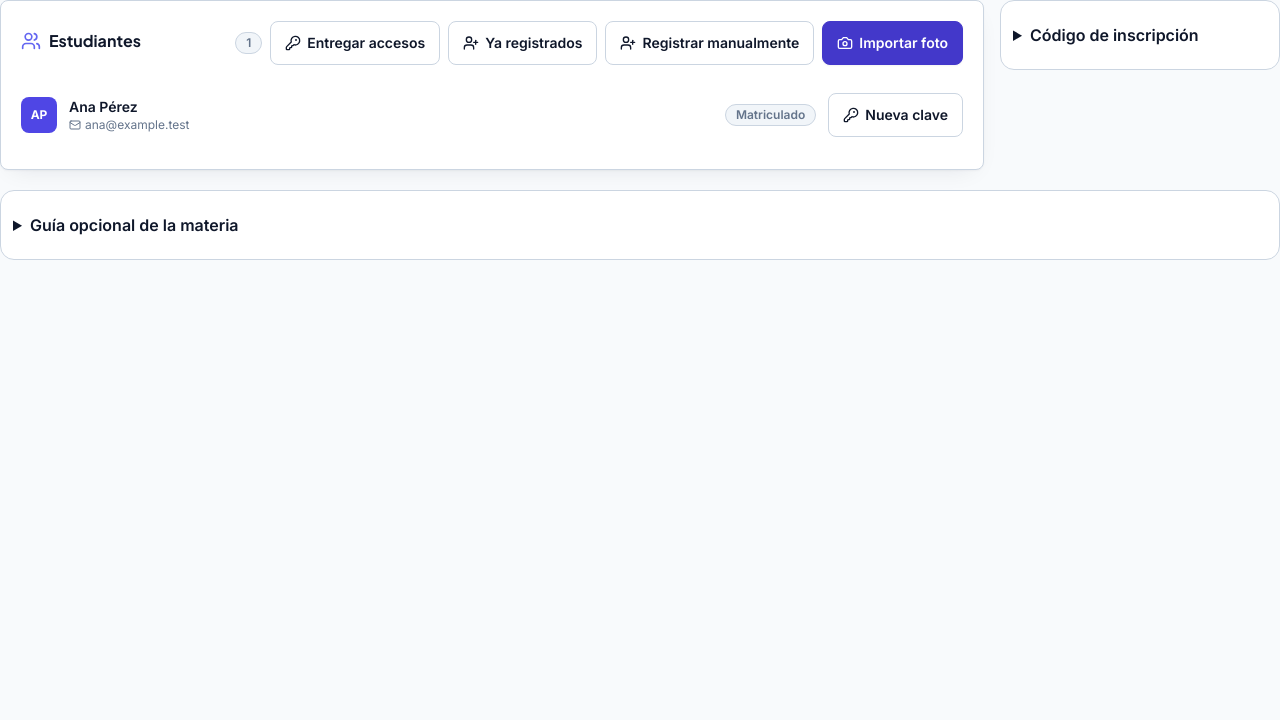
it: MateriaVistaGeneral teacher journey › requires explicit confirmation to renew an account and cancel does not change a key
The width and height of the screenshot is (1280, 720).
Click the button "Nueva clave": (896, 115) [828, 93, 963, 137]
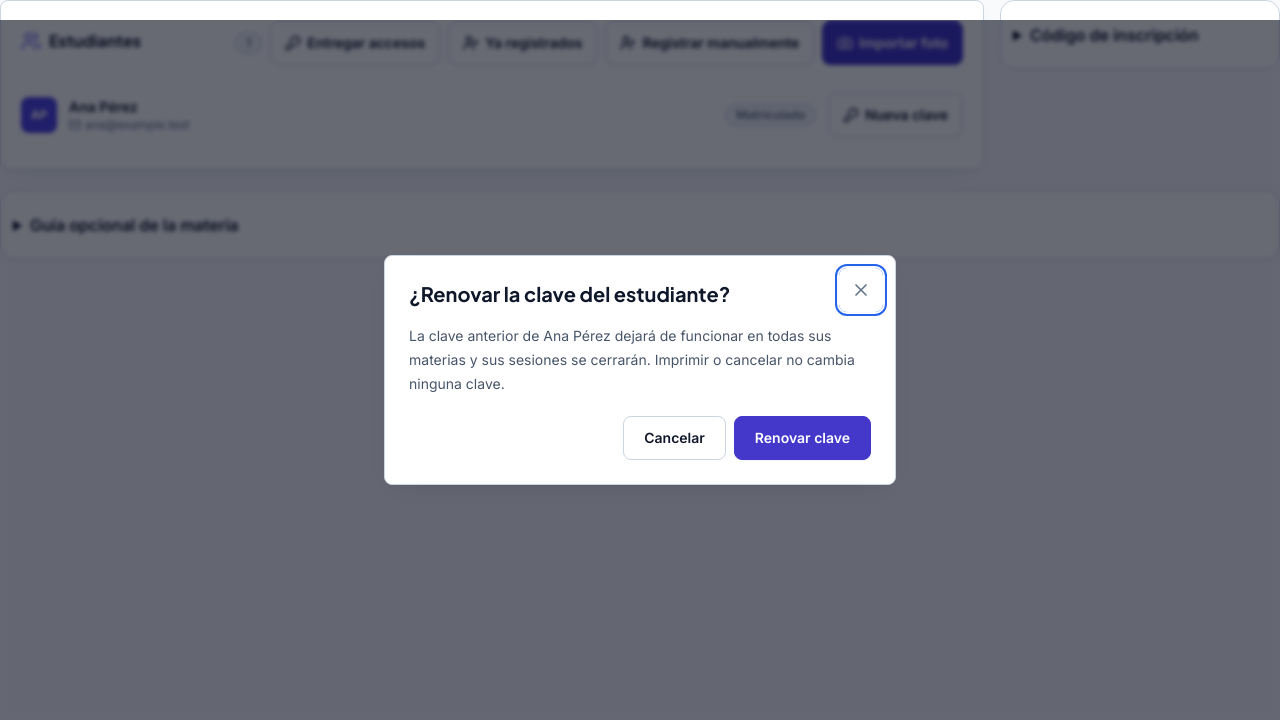
Now the text "todas sus materias" is shown, box [409, 327, 855, 392]
Click the button "Cancelar": (674, 438) [623, 416, 726, 460]
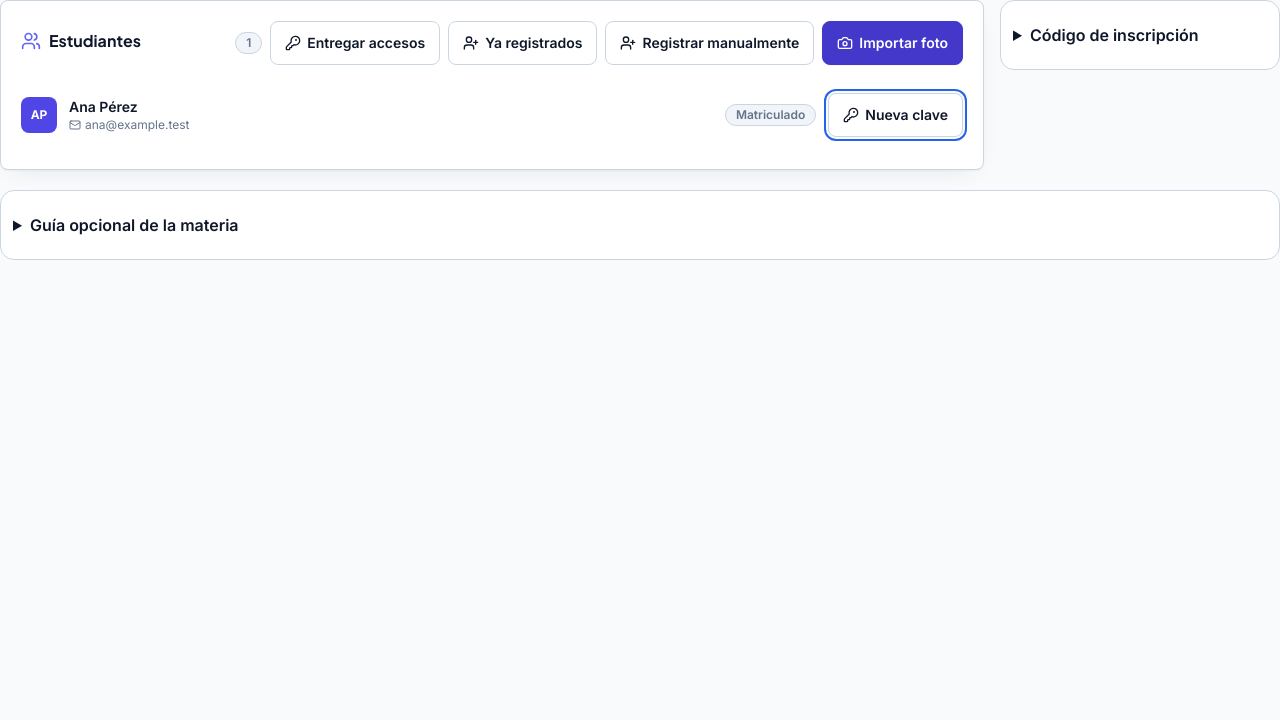
Click the button "Nueva clave": (896, 115) [828, 93, 963, 137]
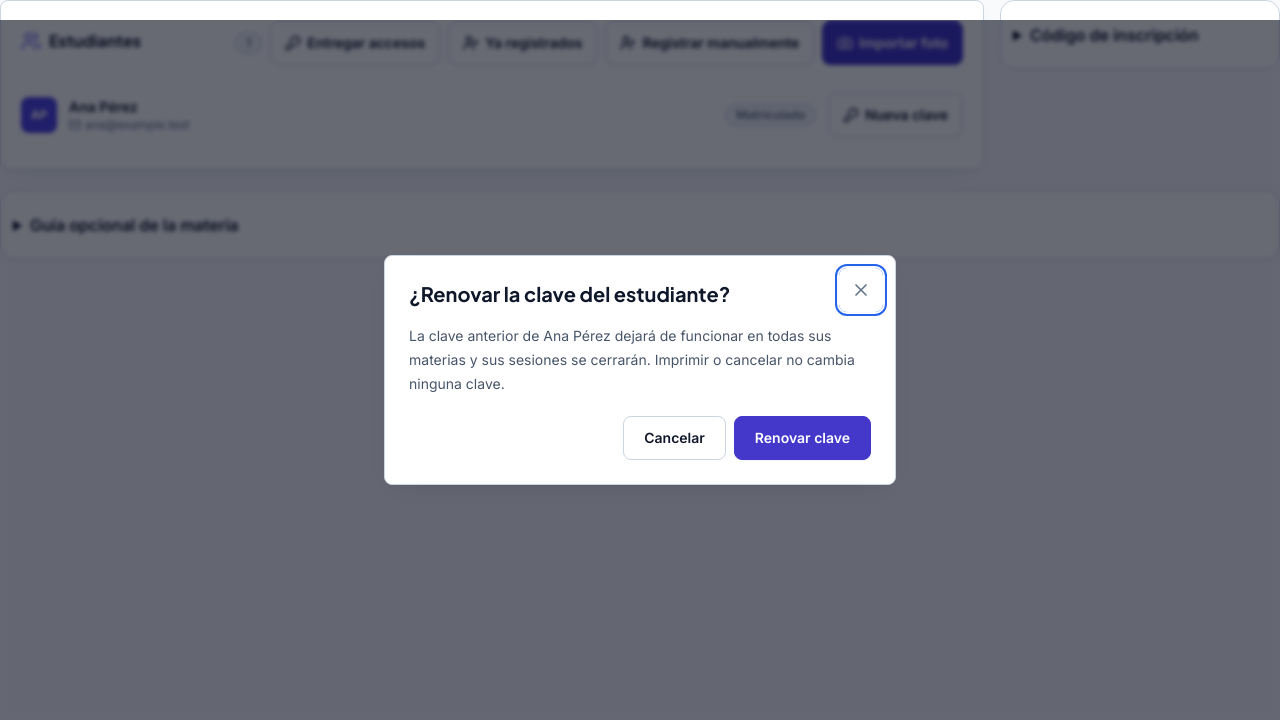
Click the button "Renovar clave": (802, 438) [734, 416, 871, 460]
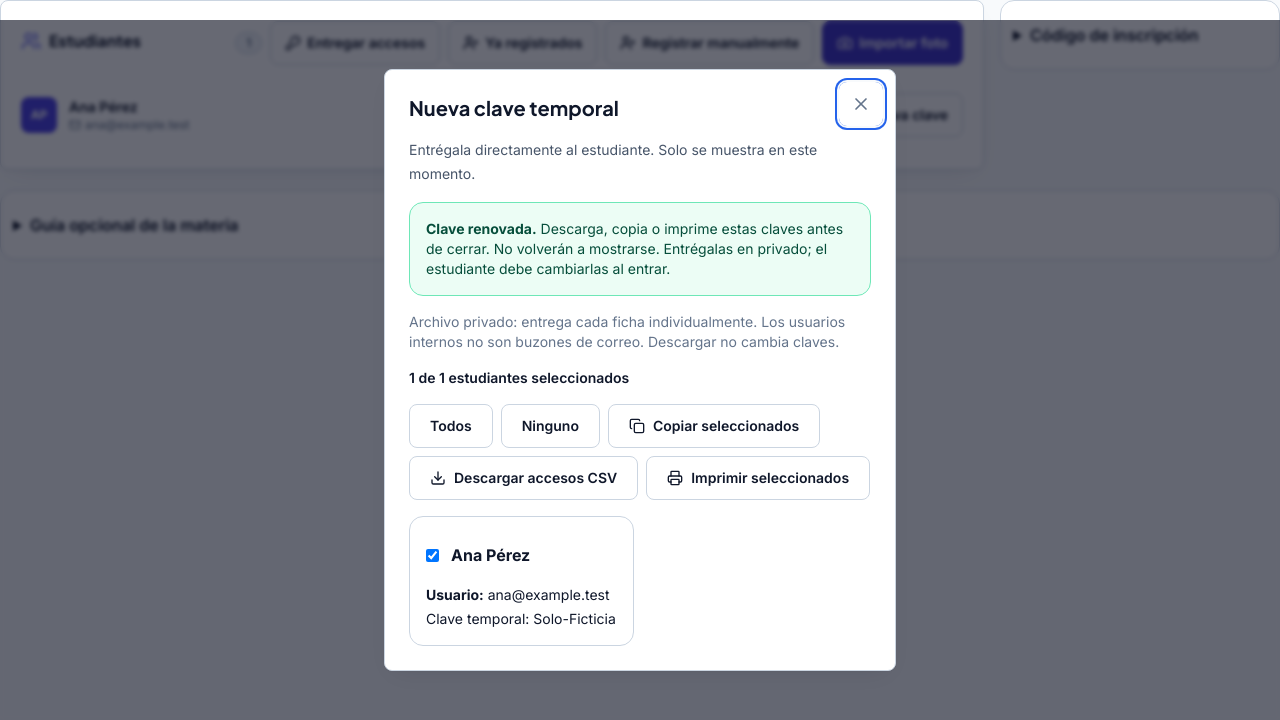
Now the button "Imprimir seleccionados" is shown, box [646, 456, 870, 500]
